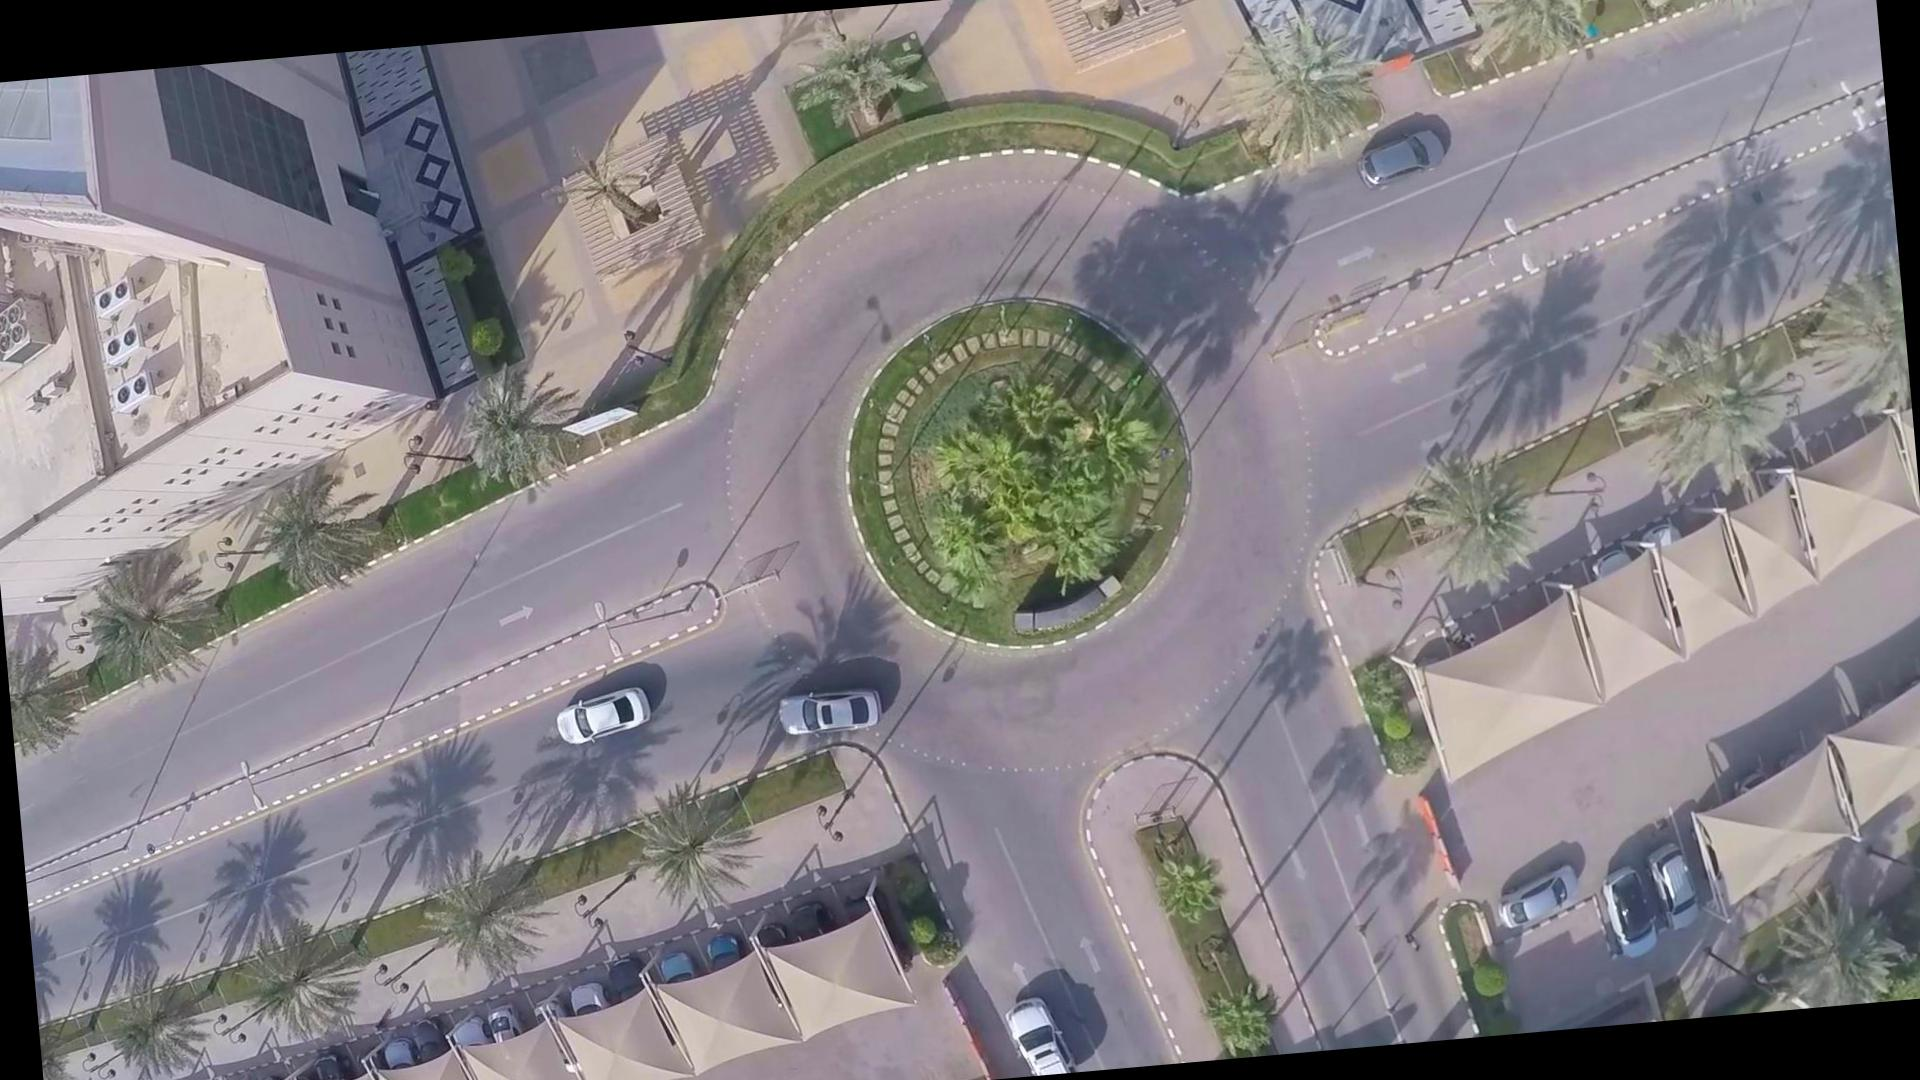vehicle: (773, 680, 898, 756), (543, 678, 655, 753), (1006, 977, 1083, 1076), (1349, 125, 1458, 183)
